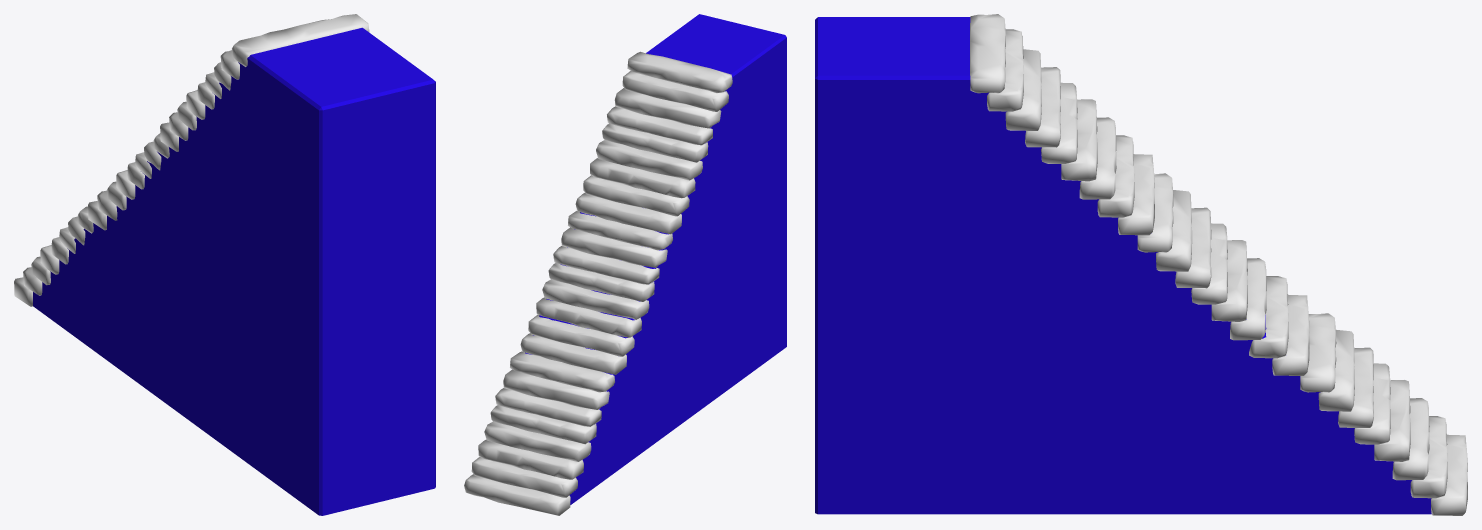
The model's file is StoneStairs3.fbx.
The picture shows the model from 3 angles, left to right: view 1: azimuth 30°, elevation 25°; view 2: azimuth 150°, elevation 25°; view 3: azimuth 270°, elevation 25°; orthographic projection. The views are drawn at different scales.
Visible parts, largest first — view 1: StoneStairs3; view 2: StoneStairs3; view 3: StoneStairs3.
Part boxes in pixels (x1,y1,x2,y2): StoneStairs3: (14, 14, 435, 515); StoneStairs3: (464, 14, 786, 515); StoneStairs3: (815, 14, 1467, 515).
Size of what is drawn, in the model's own units: 1.63 by 5.05 by 6.77.
